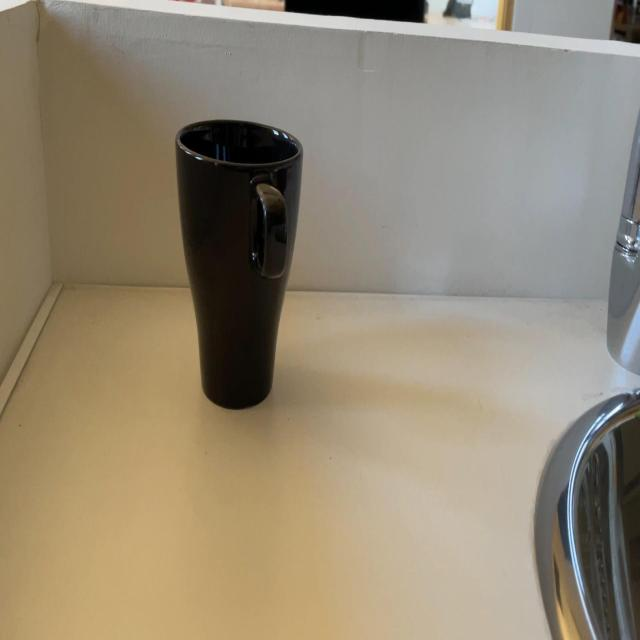cup: (174, 110, 306, 414)
